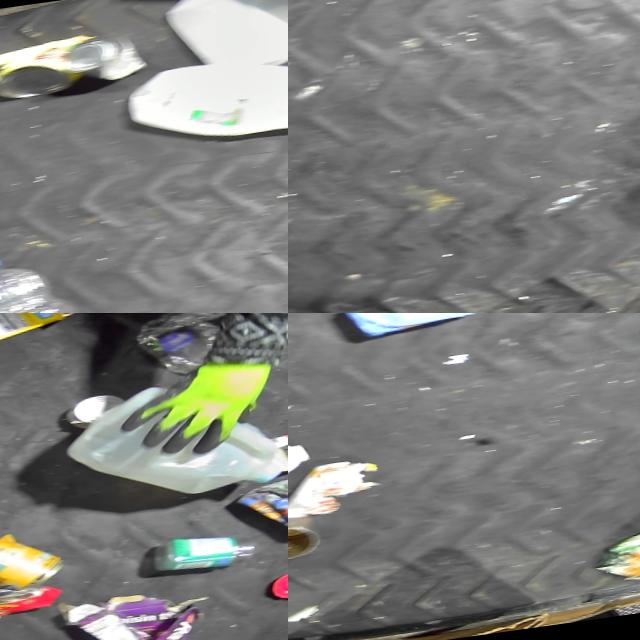can: (0, 29, 131, 108), (0, 525, 78, 599), (288, 507, 338, 566), (63, 392, 128, 432)
milk_jug: (56, 369, 288, 513), (117, 43, 288, 153), (155, 0, 288, 86)
non_white_jug: (339, 313, 494, 342)
plastic_bottle: (0, 241, 139, 313)
